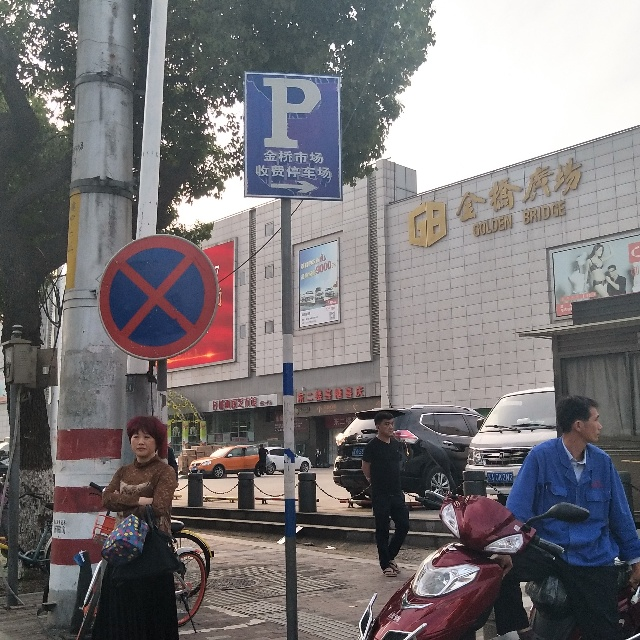stop: (98, 235, 220, 360)
